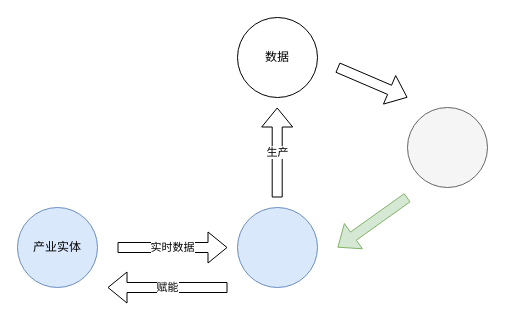
Image size: 505x321. Some labels were removed from this diagram. Here are the shapes that lost their labels. From the top down, the box of each, then its label:
(406, 106, 488, 188): 人工智能
(236, 206, 318, 288): 数字孪生
